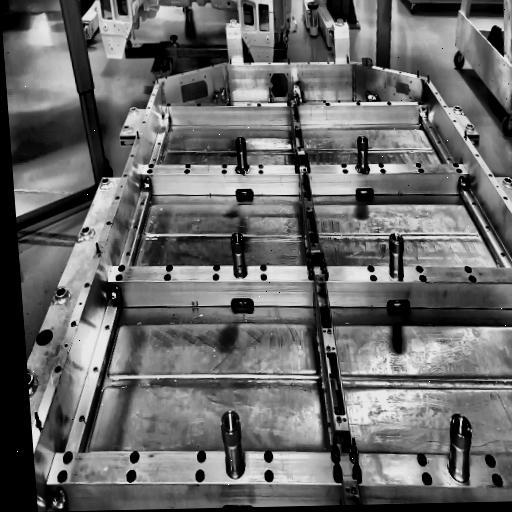b_casing: (27, 62, 512, 512)
